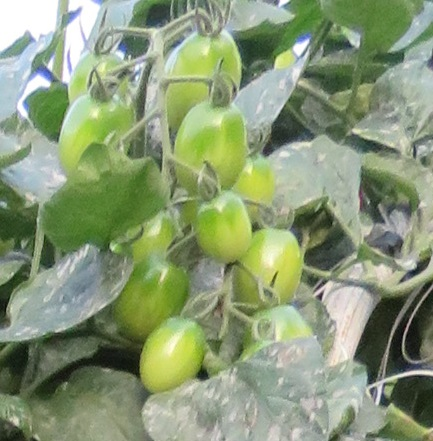green: (174, 99, 251, 194), (55, 93, 139, 180), (114, 255, 189, 344), (233, 226, 304, 312), (139, 315, 208, 394), (176, 30, 241, 100), (194, 185, 251, 263), (68, 51, 127, 94), (131, 209, 177, 258), (242, 154, 277, 207)
